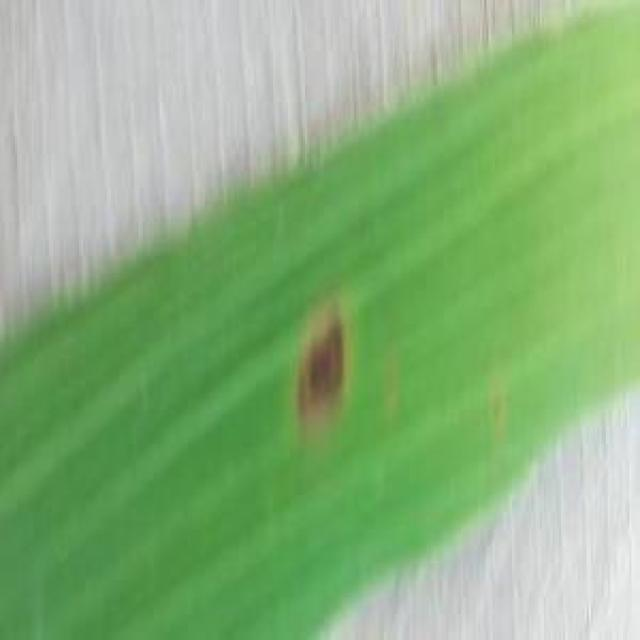Brown_Spot: (276, 318, 366, 439), (382, 359, 394, 427)
